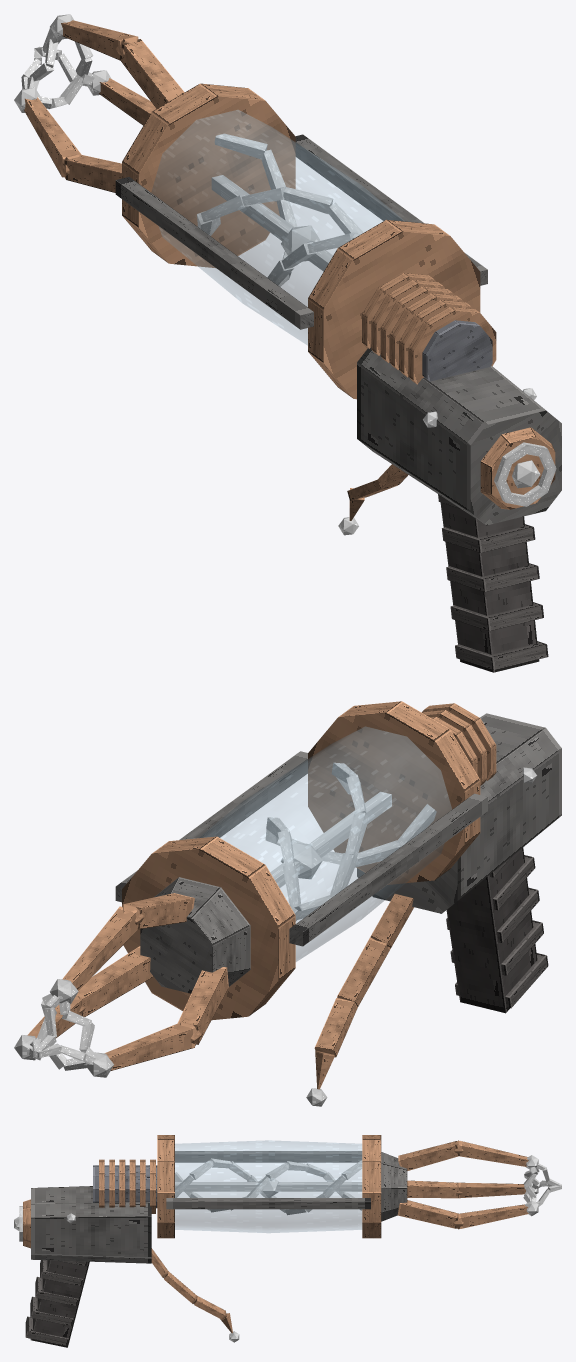
File: weapon_arclash.gltf
3 renders of one model, top to bottom at view 1: azimuth 30°, elevation 25°; view 2: azimuth 150°, elevation 25°; view 3: azimuth 270°, elevation 25°, orthographic. The views are drawn at different scales.
Parts seen in each view (by area): view 1: body, glass, crawl, tips, arcs; view 2: body, glass, crawl, arcs, tips; view 3: body, glass, crawl, arcs, tips.
Boxes of the visible parts, <box> form: body: <box>24,20,561,672</box>; glass: <box>151,110,404,345</box>; crawl: <box>197,133,363,286</box>; tips: <box>14,14,556,535</box>; arcs: <box>21,28,94,109</box>; body: <box>27,701,561,1089</box>; glass: <box>199,726,451,961</box>; crawl: <box>265,762,436,921</box>; arcs: <box>29,993,96,1070</box>; tips: <box>14,767,536,1106</box>; body: <box>23,1135,528,1347</box>; glass: <box>175,1140,361,1232</box>; crawl: <box>175,1158,362,1214</box>; arcs: <box>523,1163,561,1206</box>; tips: <box>14,1155,538,1342</box>.
Size of the model in its own units: 0.164 by 0.3057 by 0.7495.
Materials: 5 (5 with a texture image).
